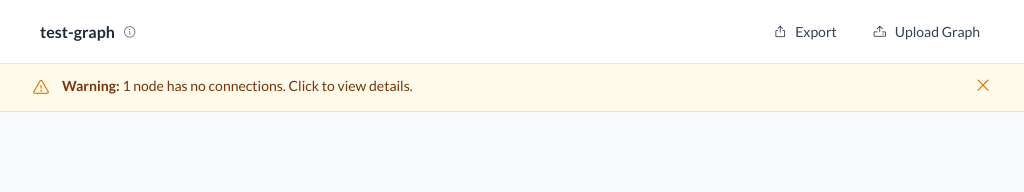
Header › export dropdown › closes dropdown when Escape pressed
Click the button "Export" at (805, 32), box [761,16,849,48]
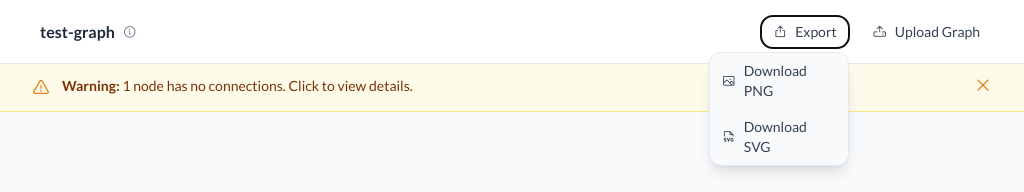
Now the menu item "Download PNG" is shown, box [710,52,848,108]
Press Escape
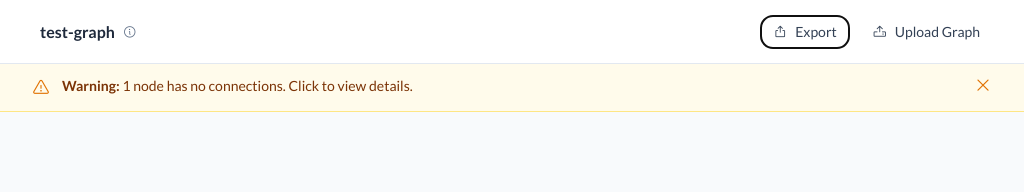
Now the menu item "PNG" is gone
